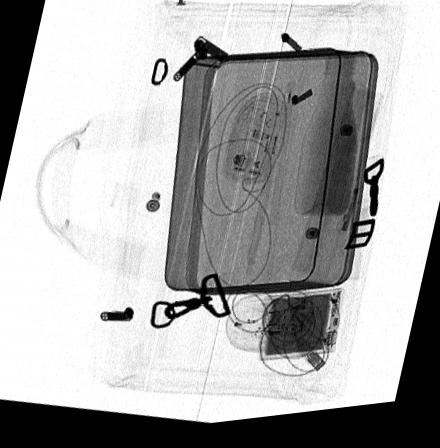Powerbank: (255, 295, 344, 368)
